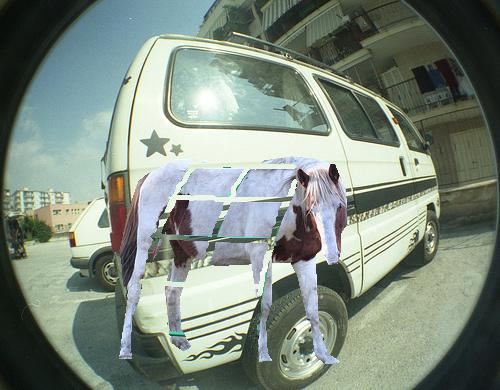tampered: (120, 157, 347, 364)
